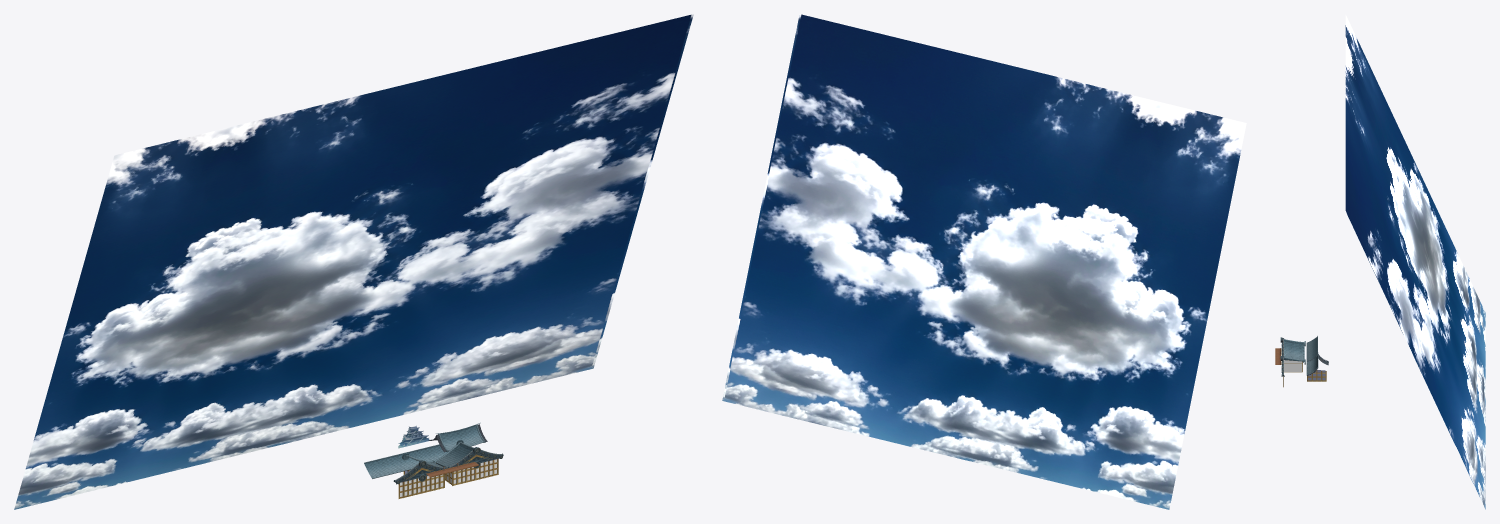
Rendered from SuzakuCastle.glb.
3 renders of one model, left to right at view 1: azimuth 30°, elevation 25°; view 2: azimuth 150°, elevation 25°; view 3: azimuth 270°, elevation 25°, orthographic. The views are drawn at different scales.
Visible parts, largest first — view 1: Plane, 5_roof2_0.1_16_16, 5_front roof4_0.1_16_16, 5_front roof3_0.1_16_16; view 2: Plane; view 3: Plane, 5_BG06-Suzaku-Castle-Roof-01b_0.1_16_16.
Boxes of the visible parts, bbox=[...] form: Plane: bbox=[14, 14, 693, 509]; 5_roof2_0.1_16_16: bbox=[364, 444, 448, 478]; 5_front roof4_0.1_16_16: bbox=[398, 459, 498, 498]; 5_front roof3_0.1_16_16: bbox=[400, 459, 496, 496]; Plane: bbox=[722, 14, 1246, 509]; Plane: bbox=[1345, 15, 1485, 509]; 5_BG06-Suzaku-Castle-Roof-01b_0.1_16_16: bbox=[1283, 339, 1305, 364].
Size of the model in its own units: 533 by 376 by 240.
16 materials, 14 textured.
